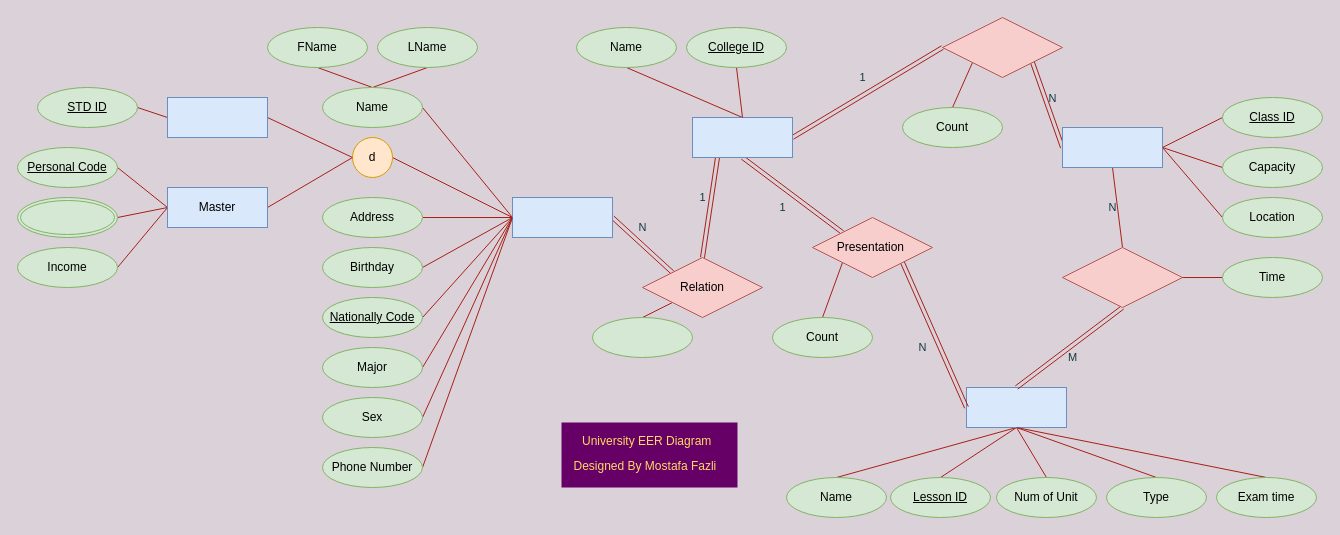
The diagram is 1340 pixels wide and 535 high, and some of its shapes have lost their labels. Each missing label, with the centre of its shape:
"Class" belongs at (1112,147).
"College" belongs at (742,137).
"Contain" belongs at (1122,277).
"Education" belongs at (67,217).
"Have" belongs at (1002,47).
"Lesson" belongs at (1016,407).
"Person" belongs at (562,217).
"Role" belongs at (642,337).
"Student" belongs at (217,117).
